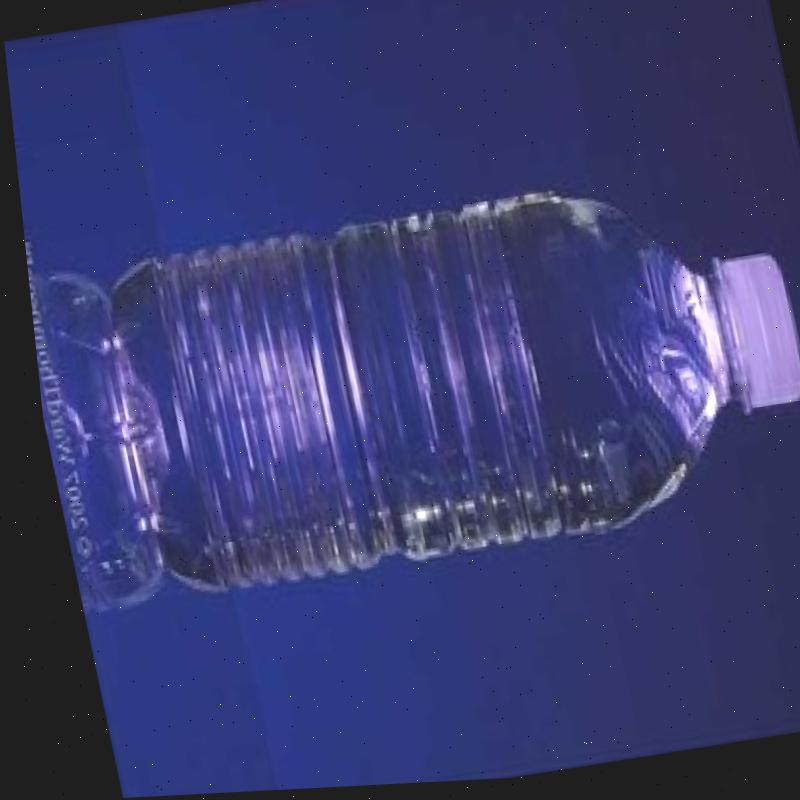botella: (64, 157, 800, 608)
